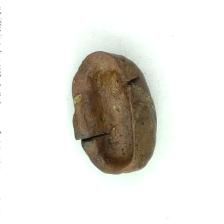NG: (72, 52, 139, 173)
